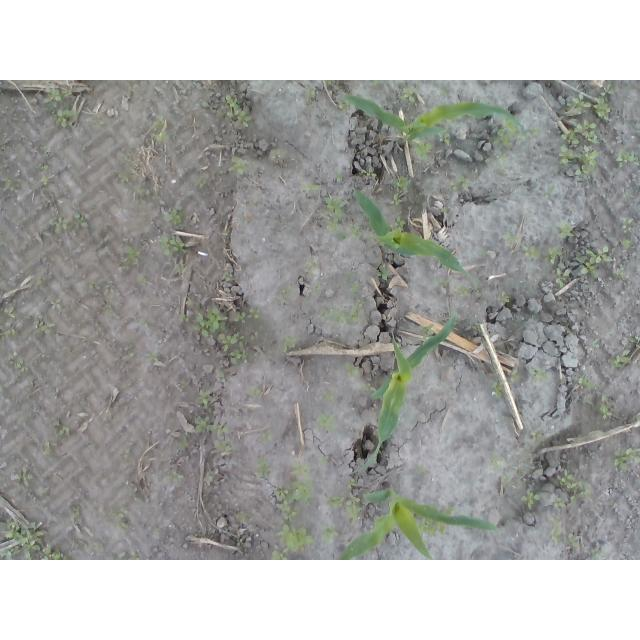Maize: (365, 316, 455, 466), (338, 481, 498, 560), (354, 189, 466, 276), (343, 93, 517, 143)
Weeds: (558, 86, 614, 177), (194, 304, 260, 367), (1, 517, 68, 560), (274, 485, 314, 551), (43, 87, 82, 129), (575, 239, 618, 274), (225, 92, 254, 129), (556, 468, 593, 497), (324, 495, 363, 522), (497, 118, 528, 148), (522, 243, 562, 266), (389, 175, 414, 209), (584, 392, 613, 419), (550, 497, 566, 543), (319, 306, 354, 327), (350, 281, 367, 324), (323, 192, 350, 219), (40, 215, 72, 237), (455, 272, 481, 299), (488, 454, 513, 481), (193, 416, 232, 433), (159, 233, 189, 255), (420, 517, 449, 539), (614, 447, 640, 471), (517, 489, 544, 511), (154, 113, 173, 144), (119, 245, 141, 271), (289, 464, 313, 485), (160, 206, 185, 226), (411, 139, 433, 161), (316, 410, 336, 434), (10, 351, 30, 375), (527, 366, 552, 384), (229, 155, 249, 177), (608, 349, 632, 367), (615, 151, 640, 168), (400, 86, 420, 106), (557, 217, 576, 238), (255, 455, 273, 477), (553, 267, 571, 288), (320, 525, 338, 546), (577, 376, 602, 391), (501, 229, 520, 248), (0, 174, 20, 192), (449, 176, 472, 191), (280, 334, 296, 355), (34, 319, 55, 335), (304, 256, 320, 277), (214, 440, 234, 456), (488, 377, 504, 397), (343, 360, 361, 377), (14, 467, 34, 482), (246, 384, 263, 400), (176, 433, 193, 449), (164, 470, 186, 482), (136, 273, 153, 288), (612, 263, 626, 281), (196, 391, 210, 409), (439, 128, 454, 144), (234, 510, 254, 522), (56, 423, 72, 438), (2, 304, 17, 320), (304, 87, 316, 106), (566, 535, 578, 554), (391, 216, 406, 231), (377, 267, 392, 282), (622, 216, 635, 233), (326, 218, 339, 235), (348, 224, 361, 241), (303, 183, 322, 194), (333, 167, 344, 185), (278, 287, 289, 305), (73, 212, 87, 226), (43, 442, 56, 457), (49, 298, 64, 311), (510, 368, 522, 384), (144, 351, 161, 362), (497, 290, 511, 303), (359, 168, 377, 178), (0, 328, 16, 339), (418, 325, 434, 336), (272, 550, 289, 560), (442, 505, 459, 515), (623, 238, 636, 251), (336, 99, 348, 113), (197, 175, 208, 190), (127, 83, 138, 98), (191, 100, 209, 109), (118, 448, 130, 461), (532, 430, 544, 443), (345, 478, 359, 489), (362, 382, 377, 392), (34, 275, 46, 287), (111, 552, 127, 561), (260, 430, 272, 442), (416, 465, 429, 476), (496, 151, 509, 162), (131, 186, 146, 195), (530, 127, 542, 138), (336, 231, 348, 242), (590, 549, 602, 560), (270, 149, 283, 159), (71, 505, 81, 518), (223, 271, 234, 282), (471, 323, 482, 334), (35, 163, 50, 171), (174, 263, 186, 273), (119, 173, 130, 183), (591, 339, 601, 350), (325, 80, 336, 89), (111, 511, 125, 518), (324, 394, 336, 402), (116, 523, 129, 530), (439, 89, 449, 98), (367, 80, 385, 85), (320, 455, 329, 465), (40, 175, 49, 185), (629, 414, 640, 422), (629, 335, 640, 343), (182, 314, 191, 323), (571, 496, 577, 504)
